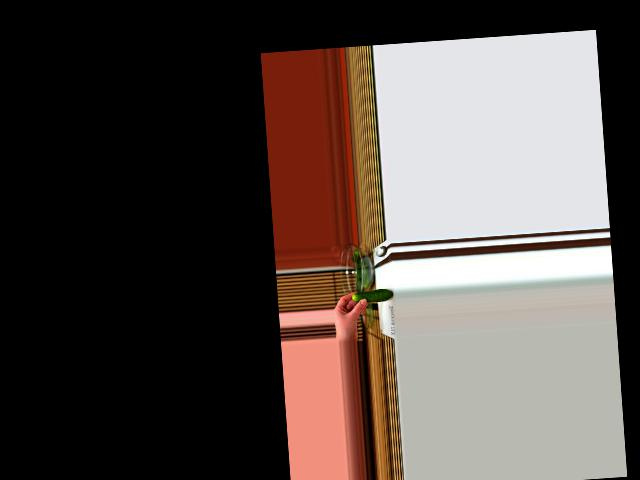cucumber: (351, 288, 393, 303)
